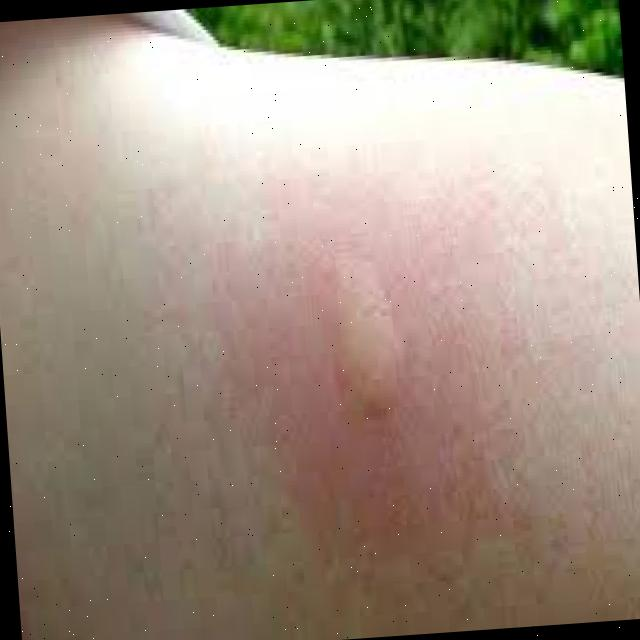sinek: (283, 248, 451, 485)
